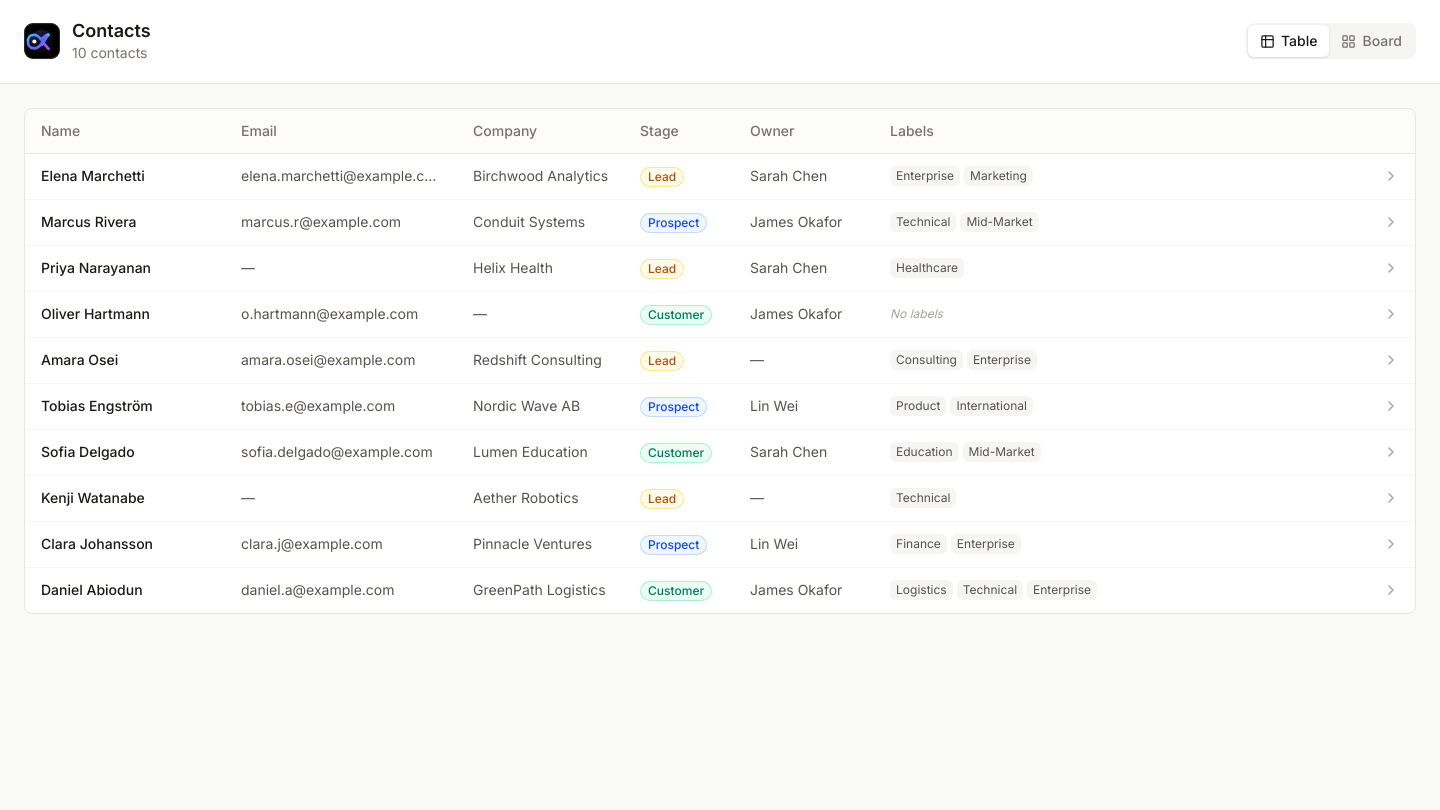
Test: App Component Integration › saves stage and notes changes, and synchronizes with Table and Board views
# Open Elena from Table
Click the button with aria-label "open details for elena marchetti".
click(93, 176)  # box [25,153,1415,199]
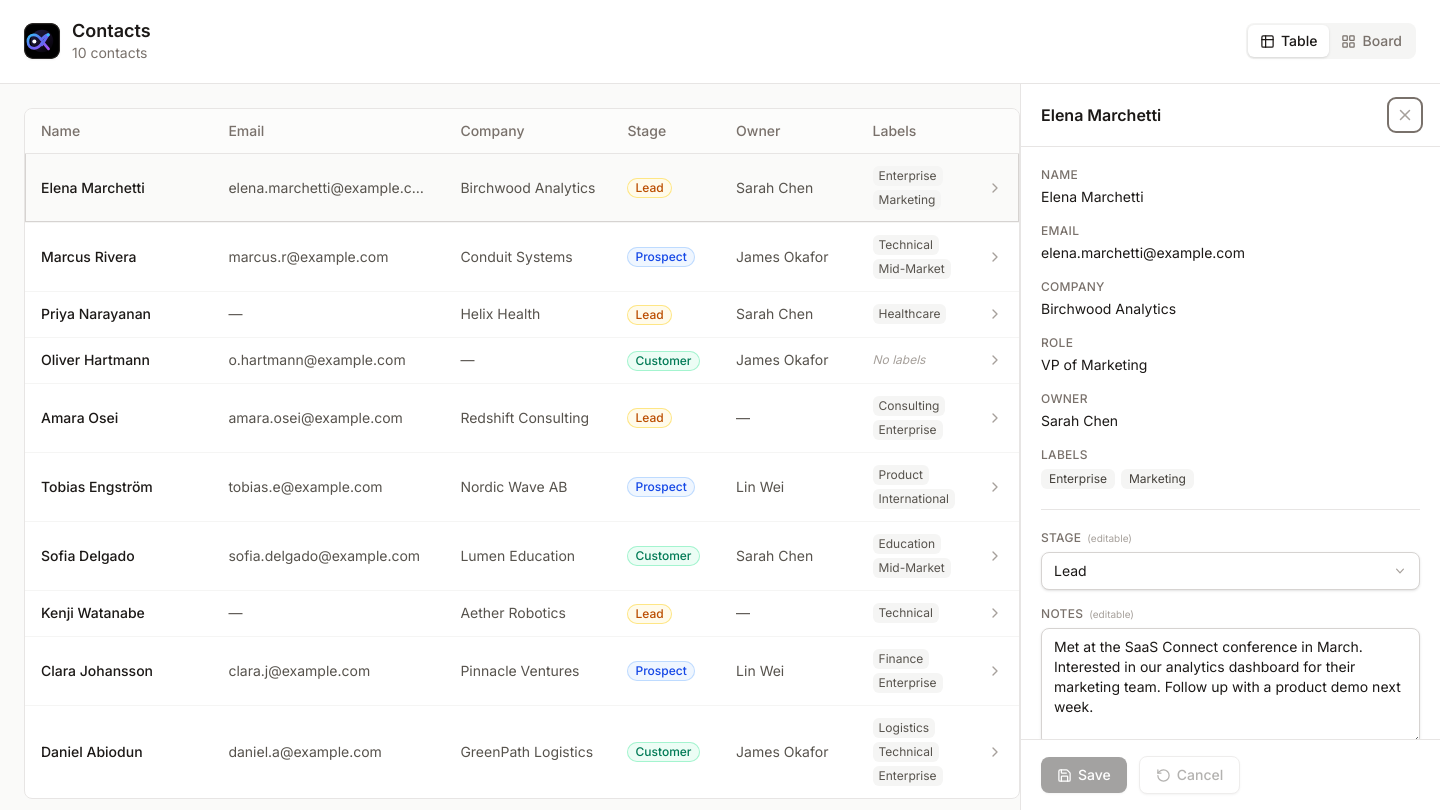
# Move Elena from Lead to Qualified (which previously had 0 contacts!)
Select "Qualified" in the dropdown labelled "Stage(editable)" at (1230, 570), box [1041,552,1420,590]
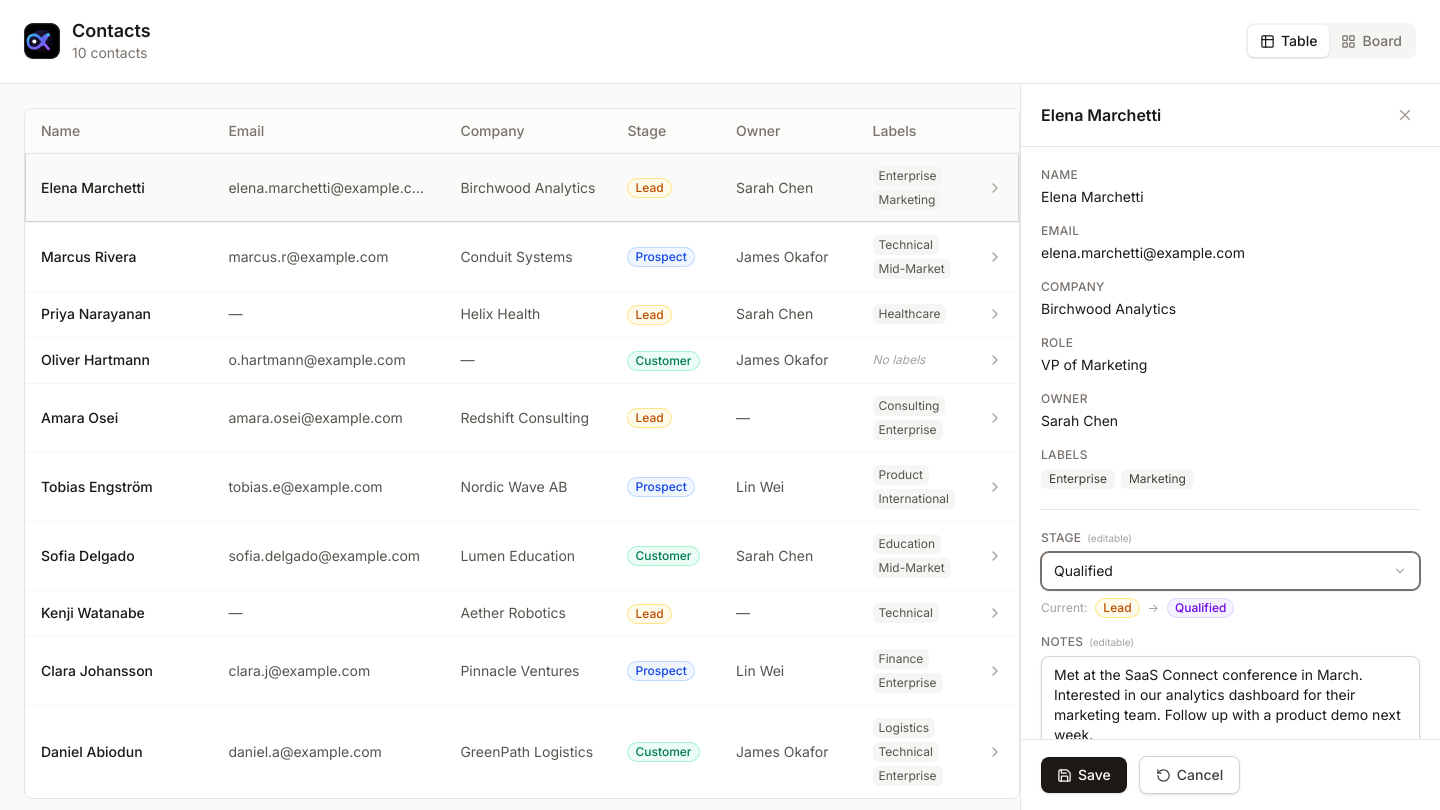
Replace the text in the text box labelled "Notes(editable)" with "Successfully qualified through direct call." at (1230, 714), box [1041,656,1420,774]
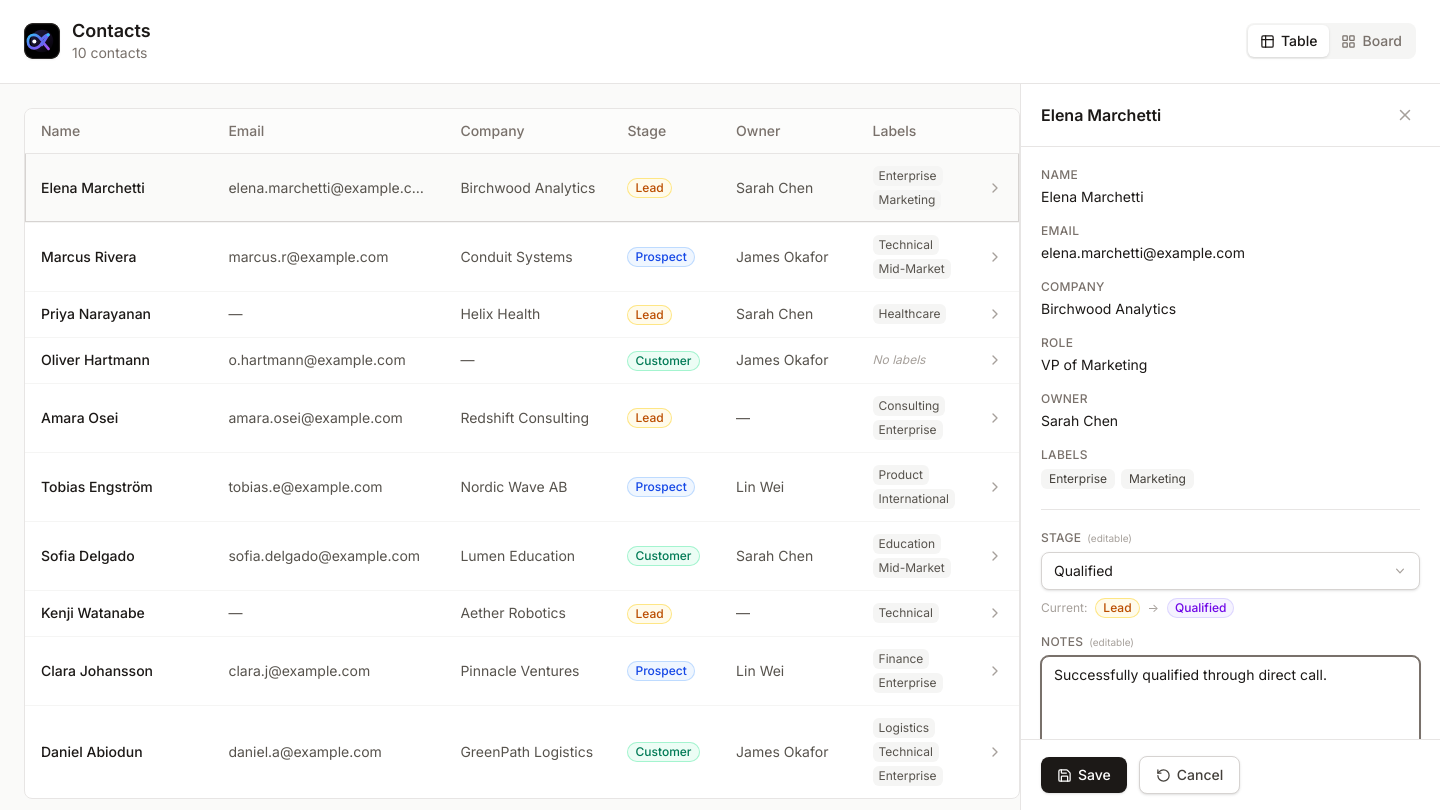
Now the button "Save" is enabled
Click the button "Save".
click(1084, 775)  # box [1041,757,1127,793]
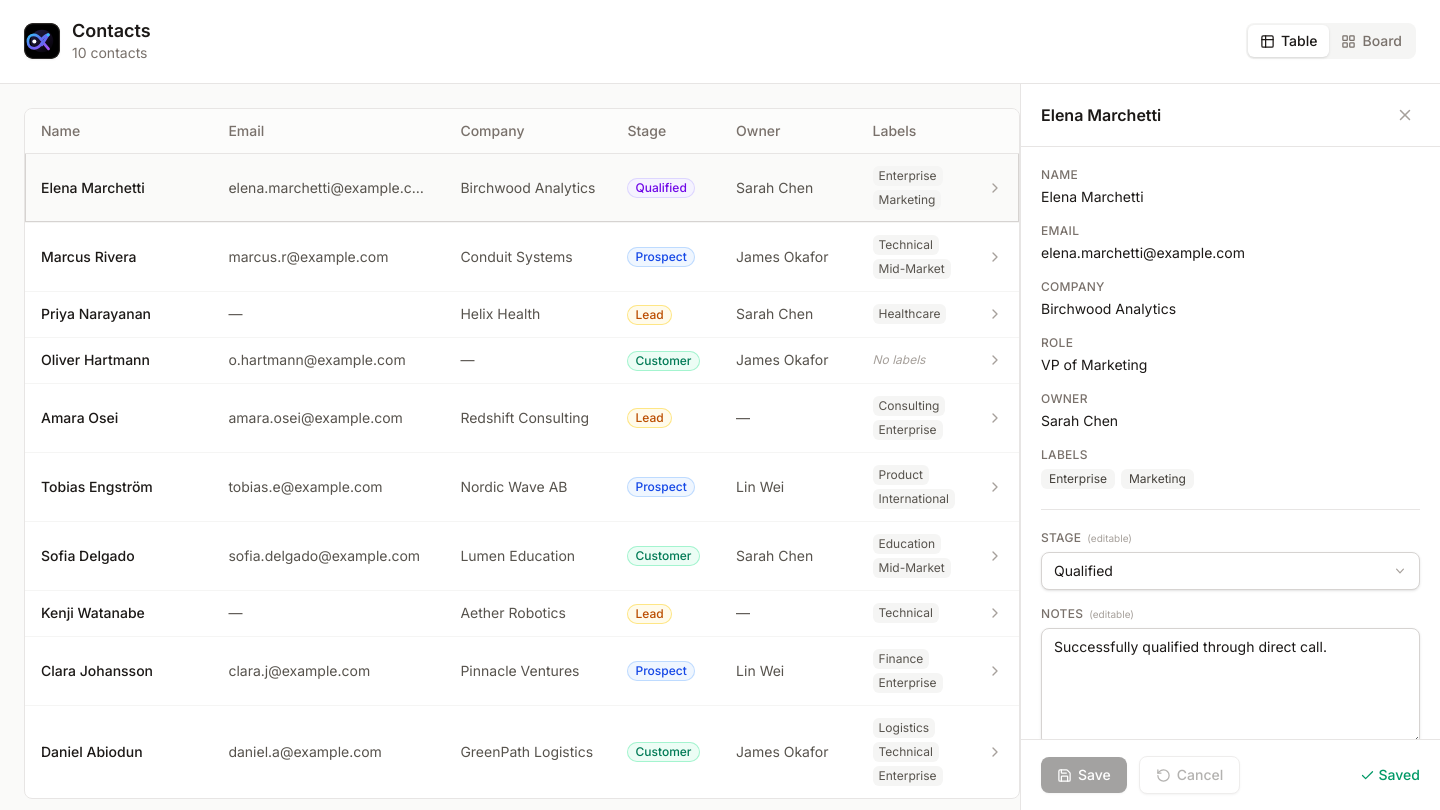
Now the text "Saved" is shown, box [1360,765,1420,785]
# Switch to Board view to check synchronized state
Click the tab "Board".
click(1372, 41)  # box [1330,25,1414,57]
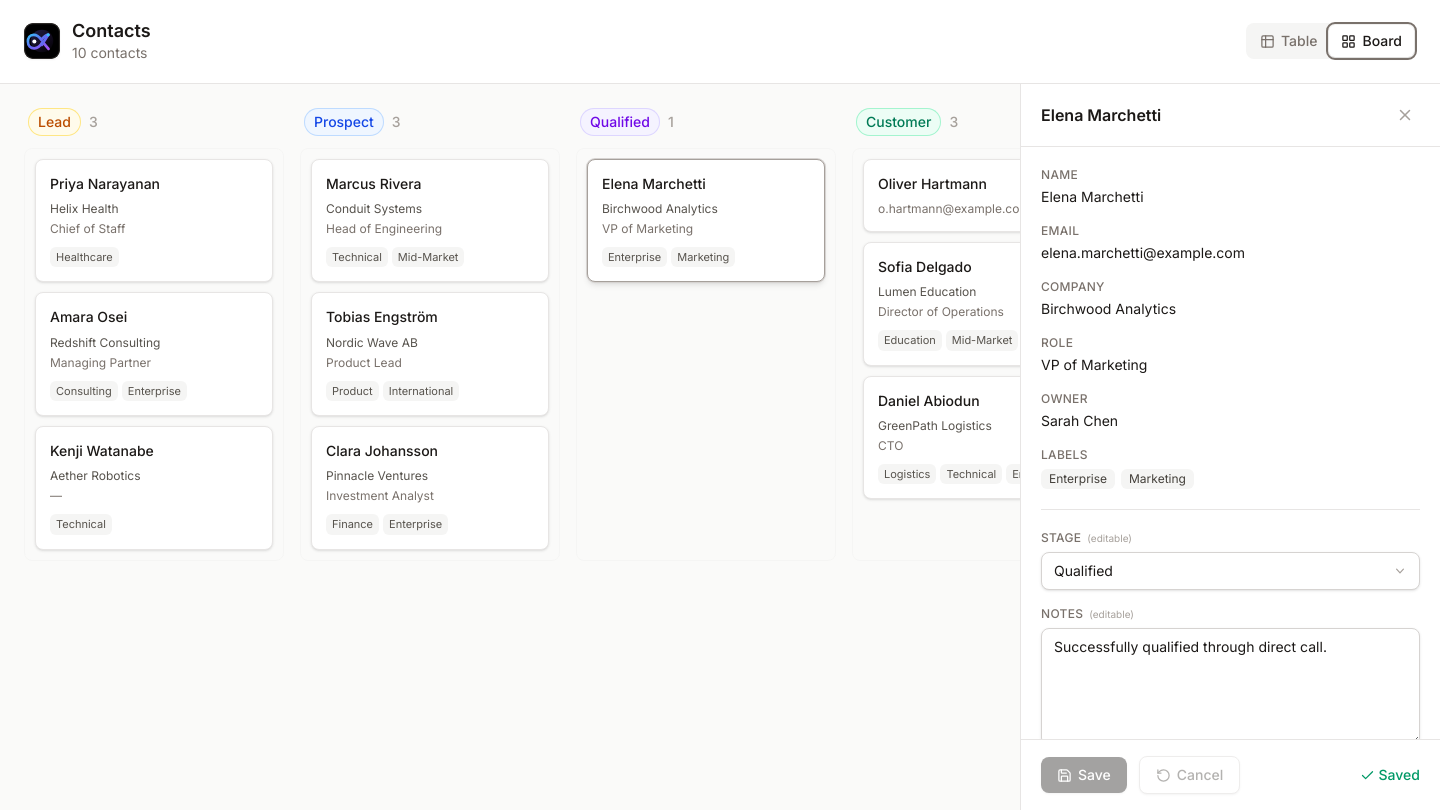
Now the button with aria-label "open details for elena marchetti" is shown, box [587,158,825,282]
